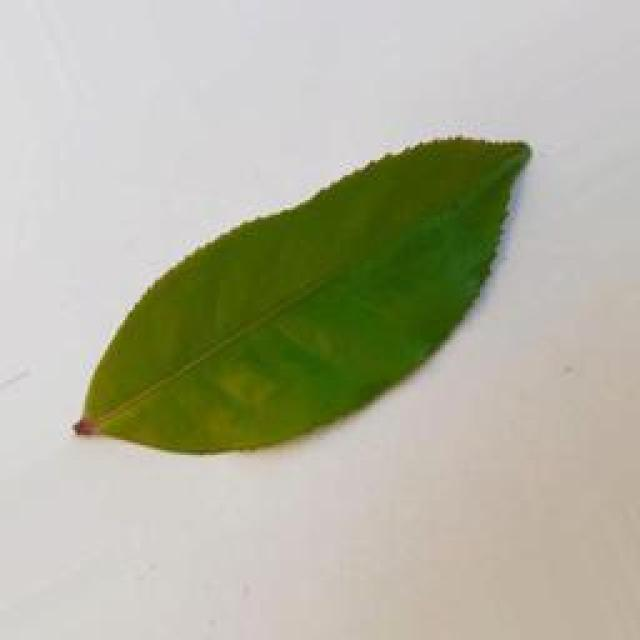Healthy: (49, 112, 539, 459)
